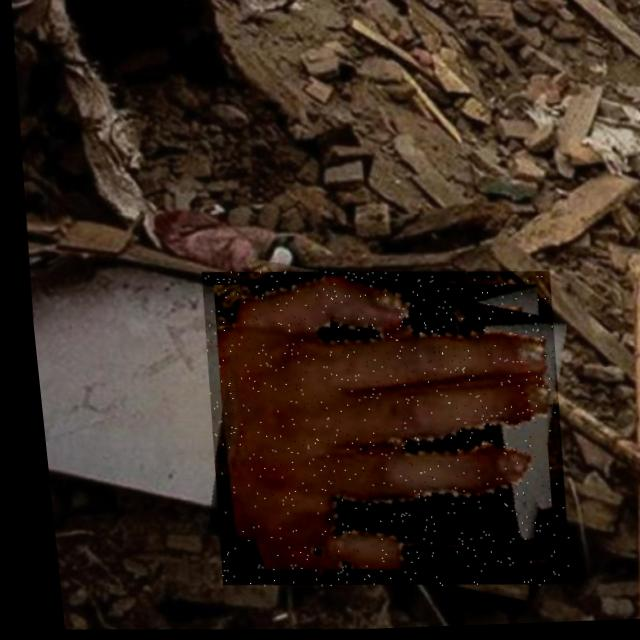Person in Rubble: (185, 263, 570, 600)
